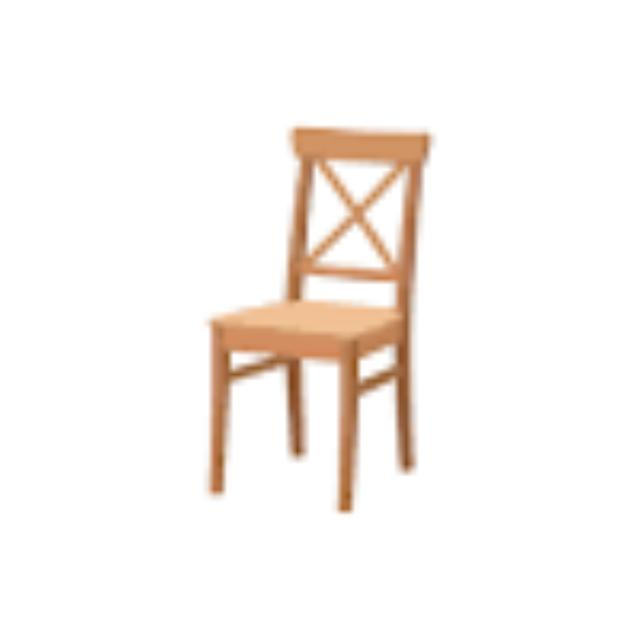obstacle: (152, 77, 484, 553)
